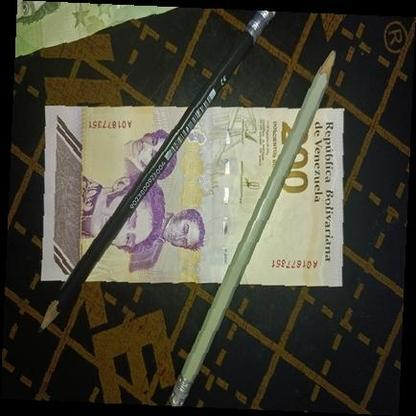two_hundred-front-vef: (40, 106, 344, 286)
